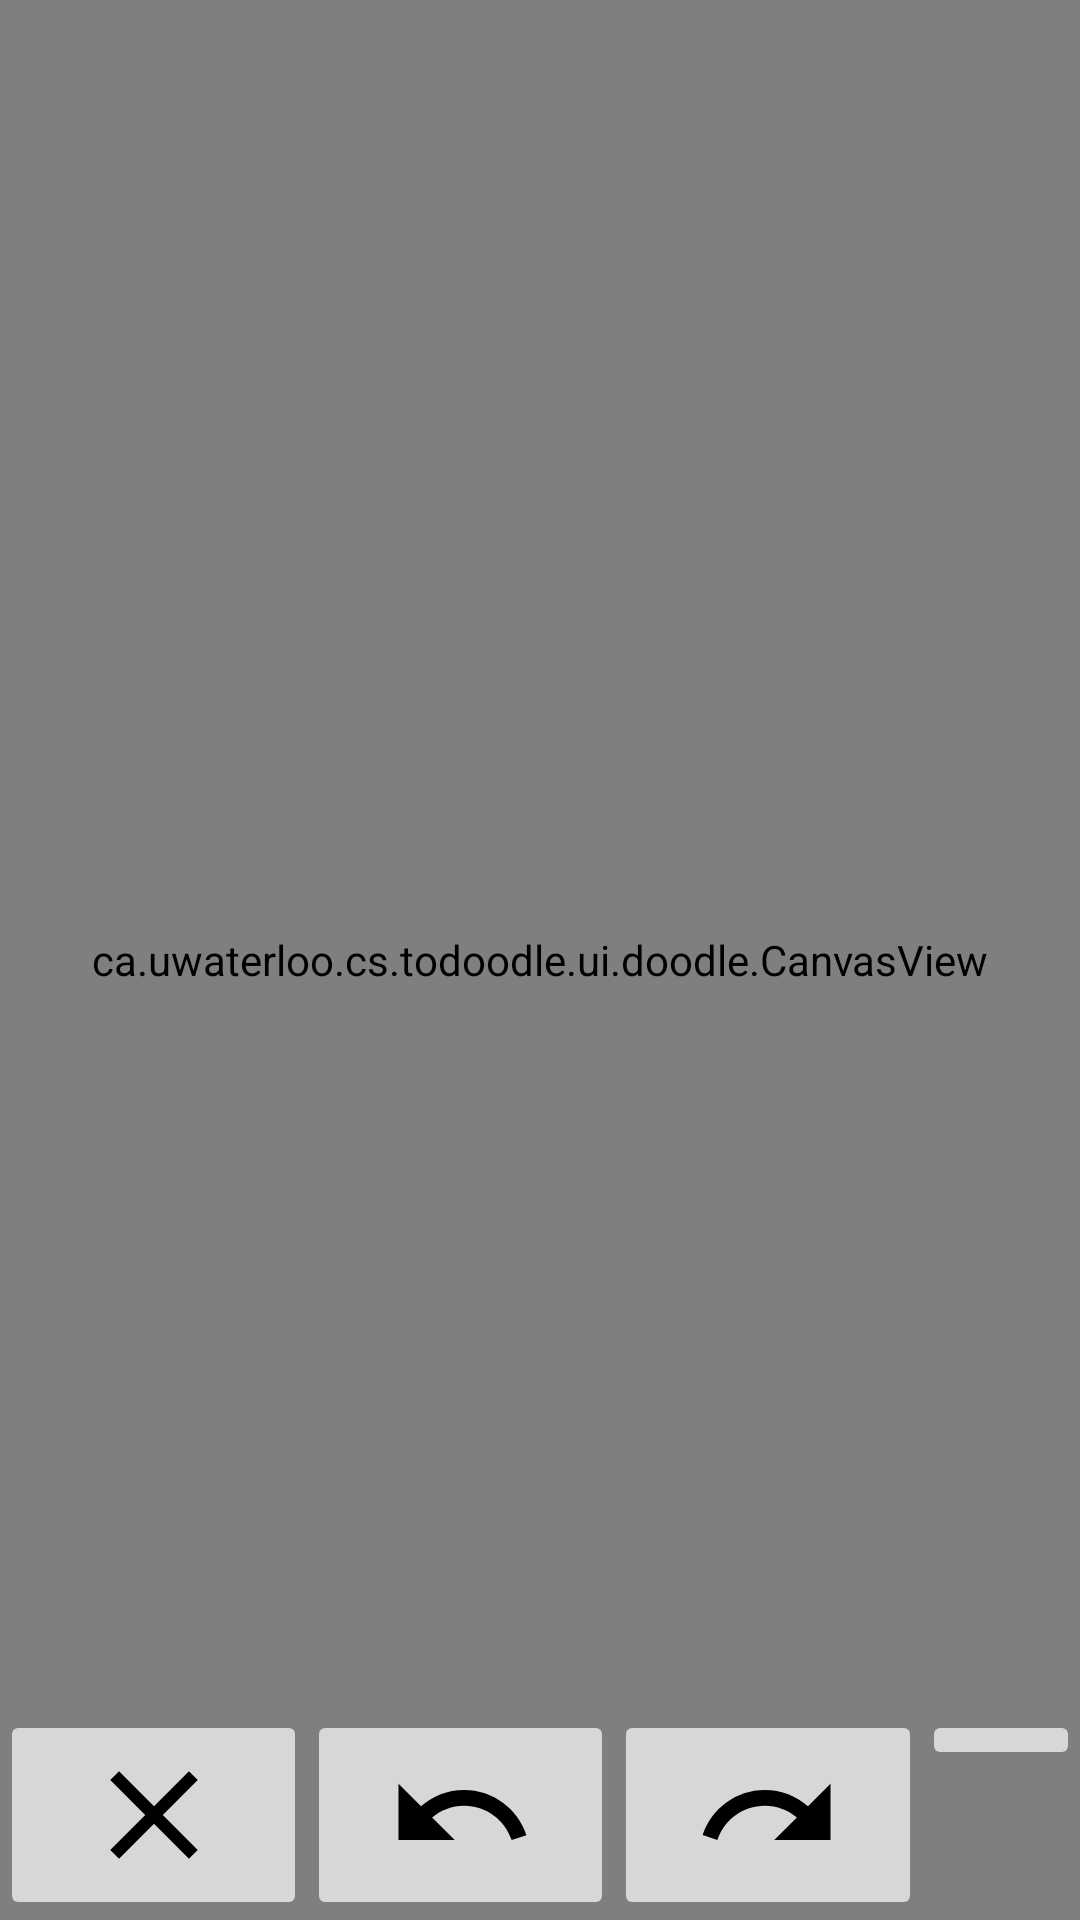

Screen size 1080x1920. Icon name, then its center in pixels as (x,y):
clear: (153,1815)
redo: (768,1815)
undo: (460,1815)
